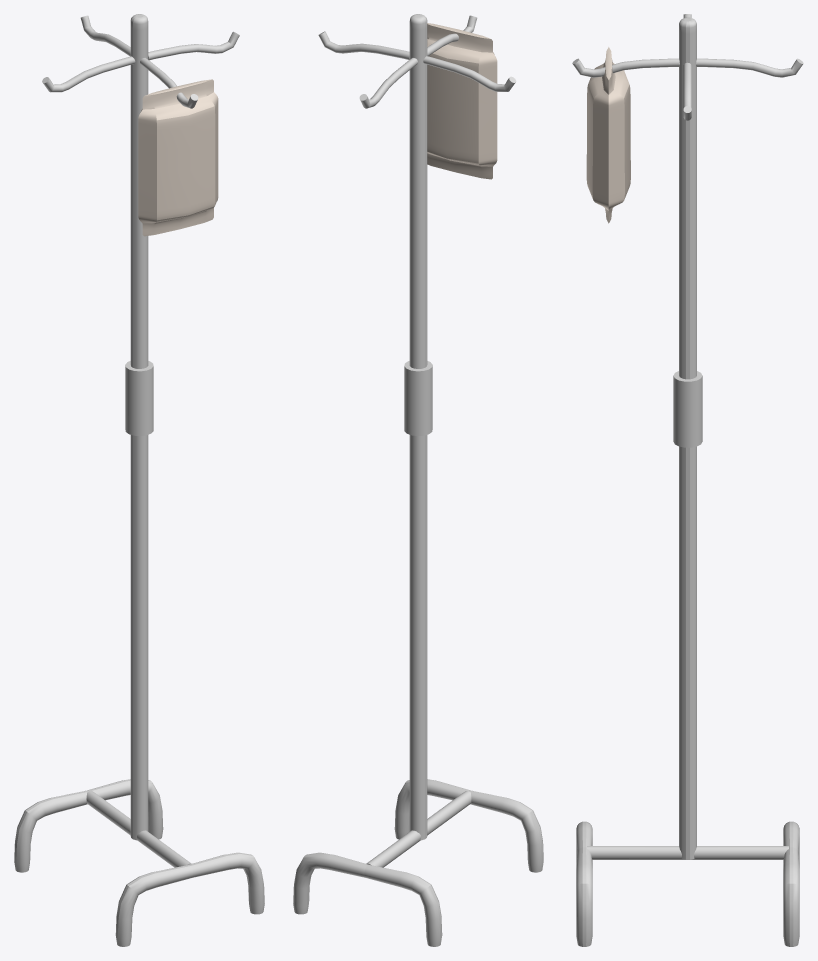
The model's file is Soro 1.fbx.
The picture shows the model from 3 angles, left to right: view 1: azimuth 30°, elevation 25°; view 2: azimuth 150°, elevation 25°; view 3: azimuth 270°, elevation 25°; orthographic projection.
Visible parts, largest first — view 1: Cylinder.002, Cube, Cylinder.001; view 2: Cylinder.002, Cube, Cylinder.001; view 3: Cylinder.002, Cube, Cylinder.001.
Boxes of the visible parts, x1,y1,x2,y2 form: Cylinder.002: [14, 14, 264, 946]; Cube: [138, 79, 218, 236]; Cylinder.001: [125, 361, 153, 435]; Cylinder.002: [293, 14, 543, 946]; Cube: [427, 23, 497, 179]; Cylinder.001: [404, 361, 432, 435]; Cylinder.002: [572, 14, 803, 946]; Cube: [586, 47, 630, 223]; Cylinder.001: [673, 371, 702, 447].
Size of the model in its own units: 179 by 762 by 179.
